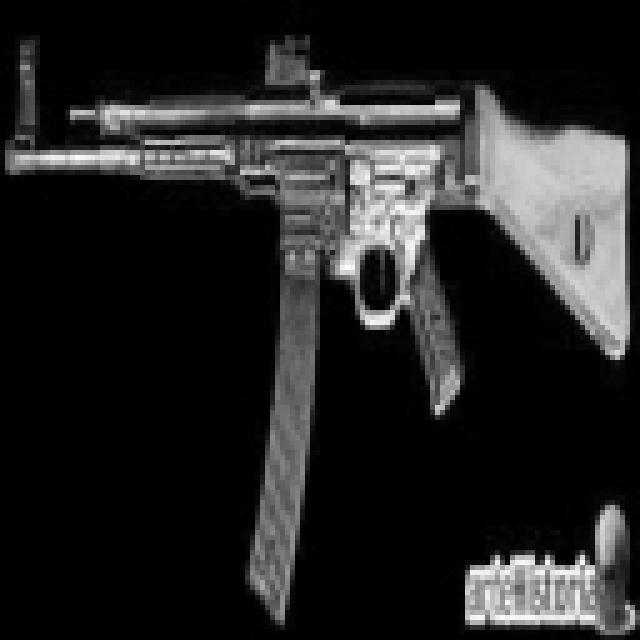Rifle: (4, 30, 626, 628)
